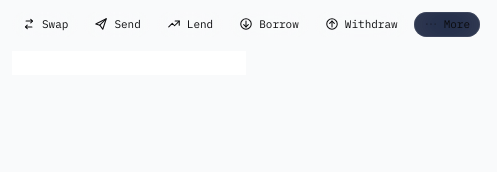
ActionRail › prefills Lend with the correct verb, focuses input, and does not submit
The width and height of the screenshot is (497, 172).
Click the button "Lend".
click(190, 25)  # box top-left (157, 12), bottom-right (223, 37)
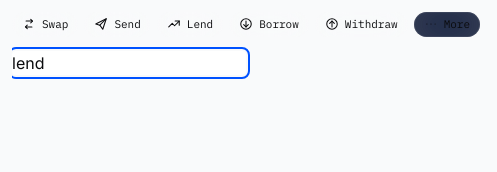
Now the field named "Intent" holds "lend ", box top-left (12, 51), bottom-right (246, 75)
